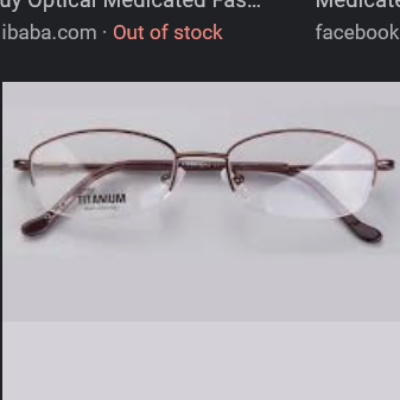glasses: (10, 121, 398, 258)
